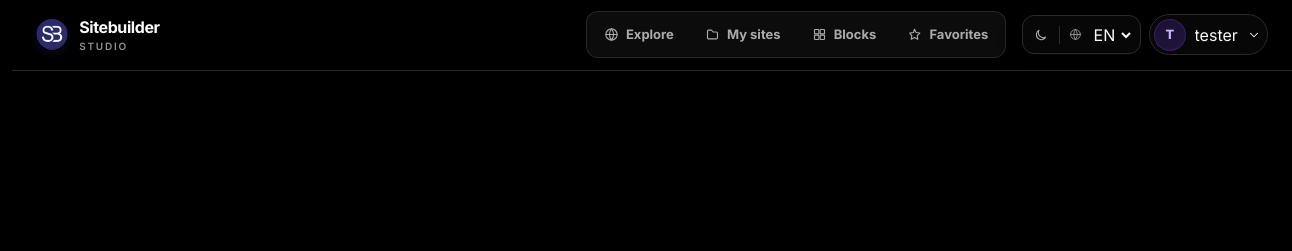
Test case: DashboardHeader Escape focus › does not steal focus from outside the header when Escape dismisses an open menu
The width and height of the screenshot is (1292, 251).
Click the button named "Account menu": coordinates (1208, 35) [1149,14,1268,55]
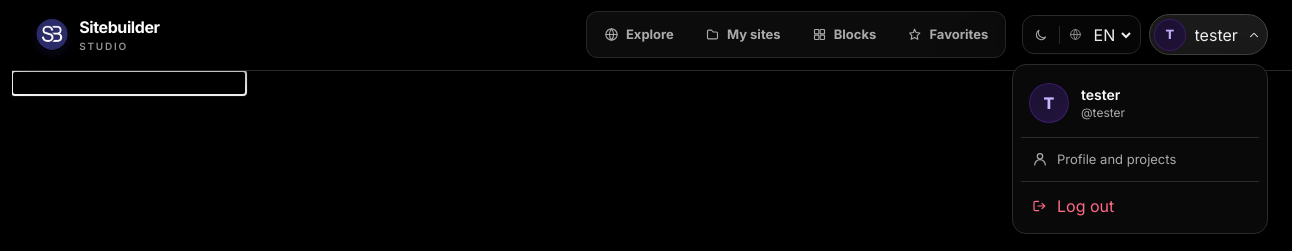
Press Escape
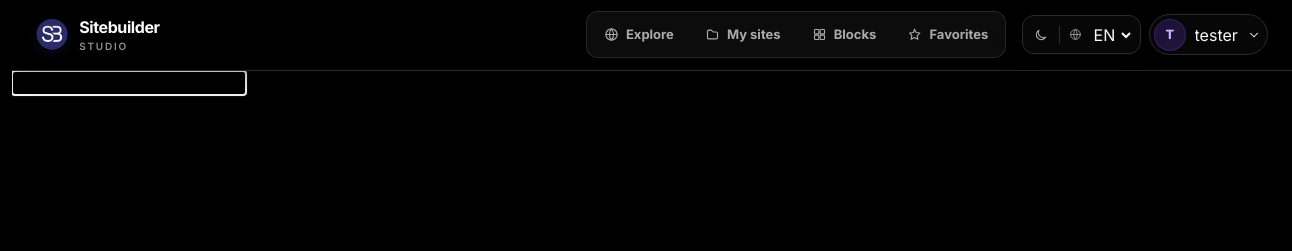
expect the button named "Account menu" is collapsed: met, box [1149,14,1268,55]
